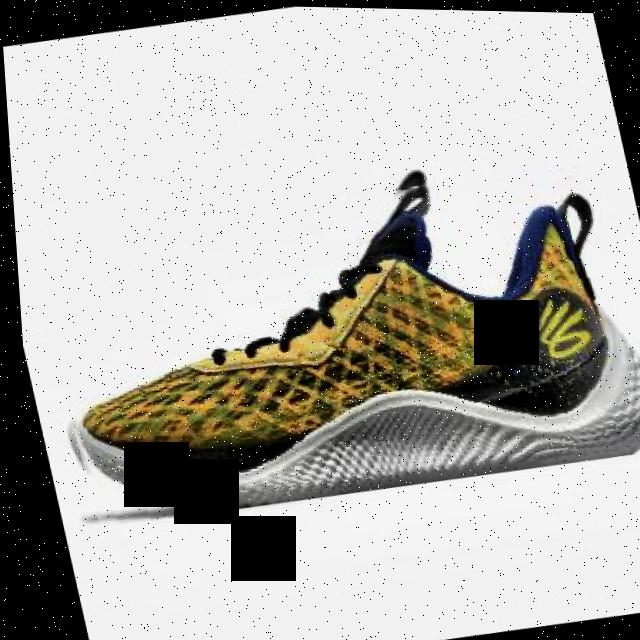shoe: (10, 137, 640, 540)
